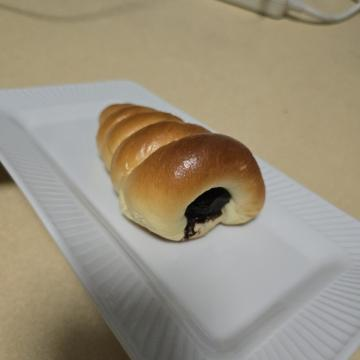cream horn: (89, 88, 254, 272)
